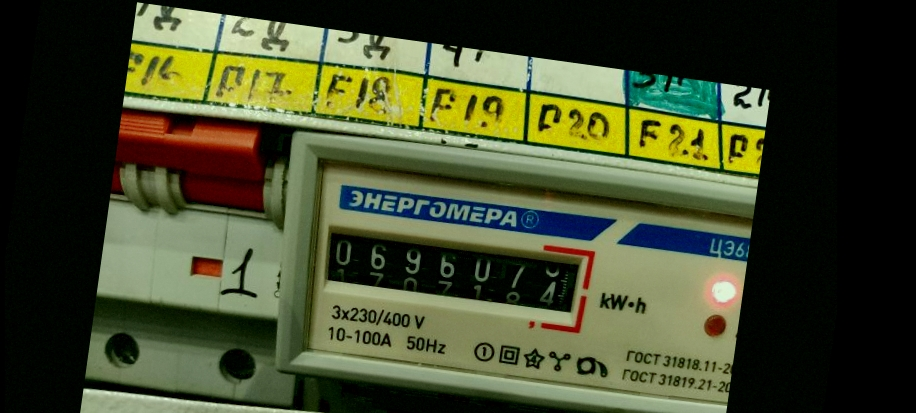0: (332, 235, 356, 268), (472, 252, 495, 284)
4: (537, 277, 559, 307)
6: (366, 239, 392, 272), (437, 249, 460, 279)
7: (507, 257, 528, 289)
9: (403, 245, 424, 276)
screen: (304, 205, 598, 333)
